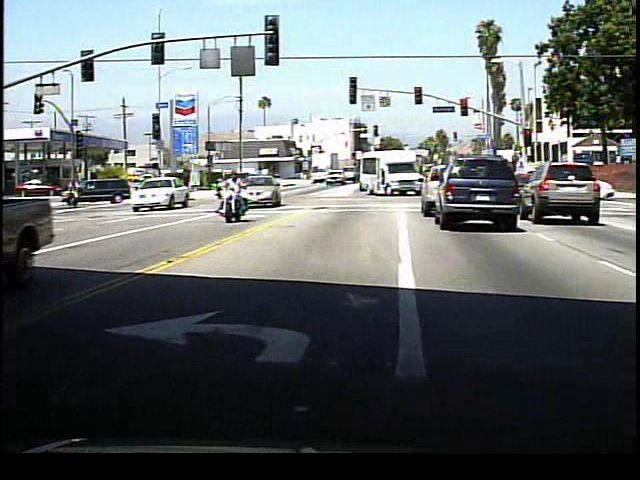person: (219, 174, 249, 226)
